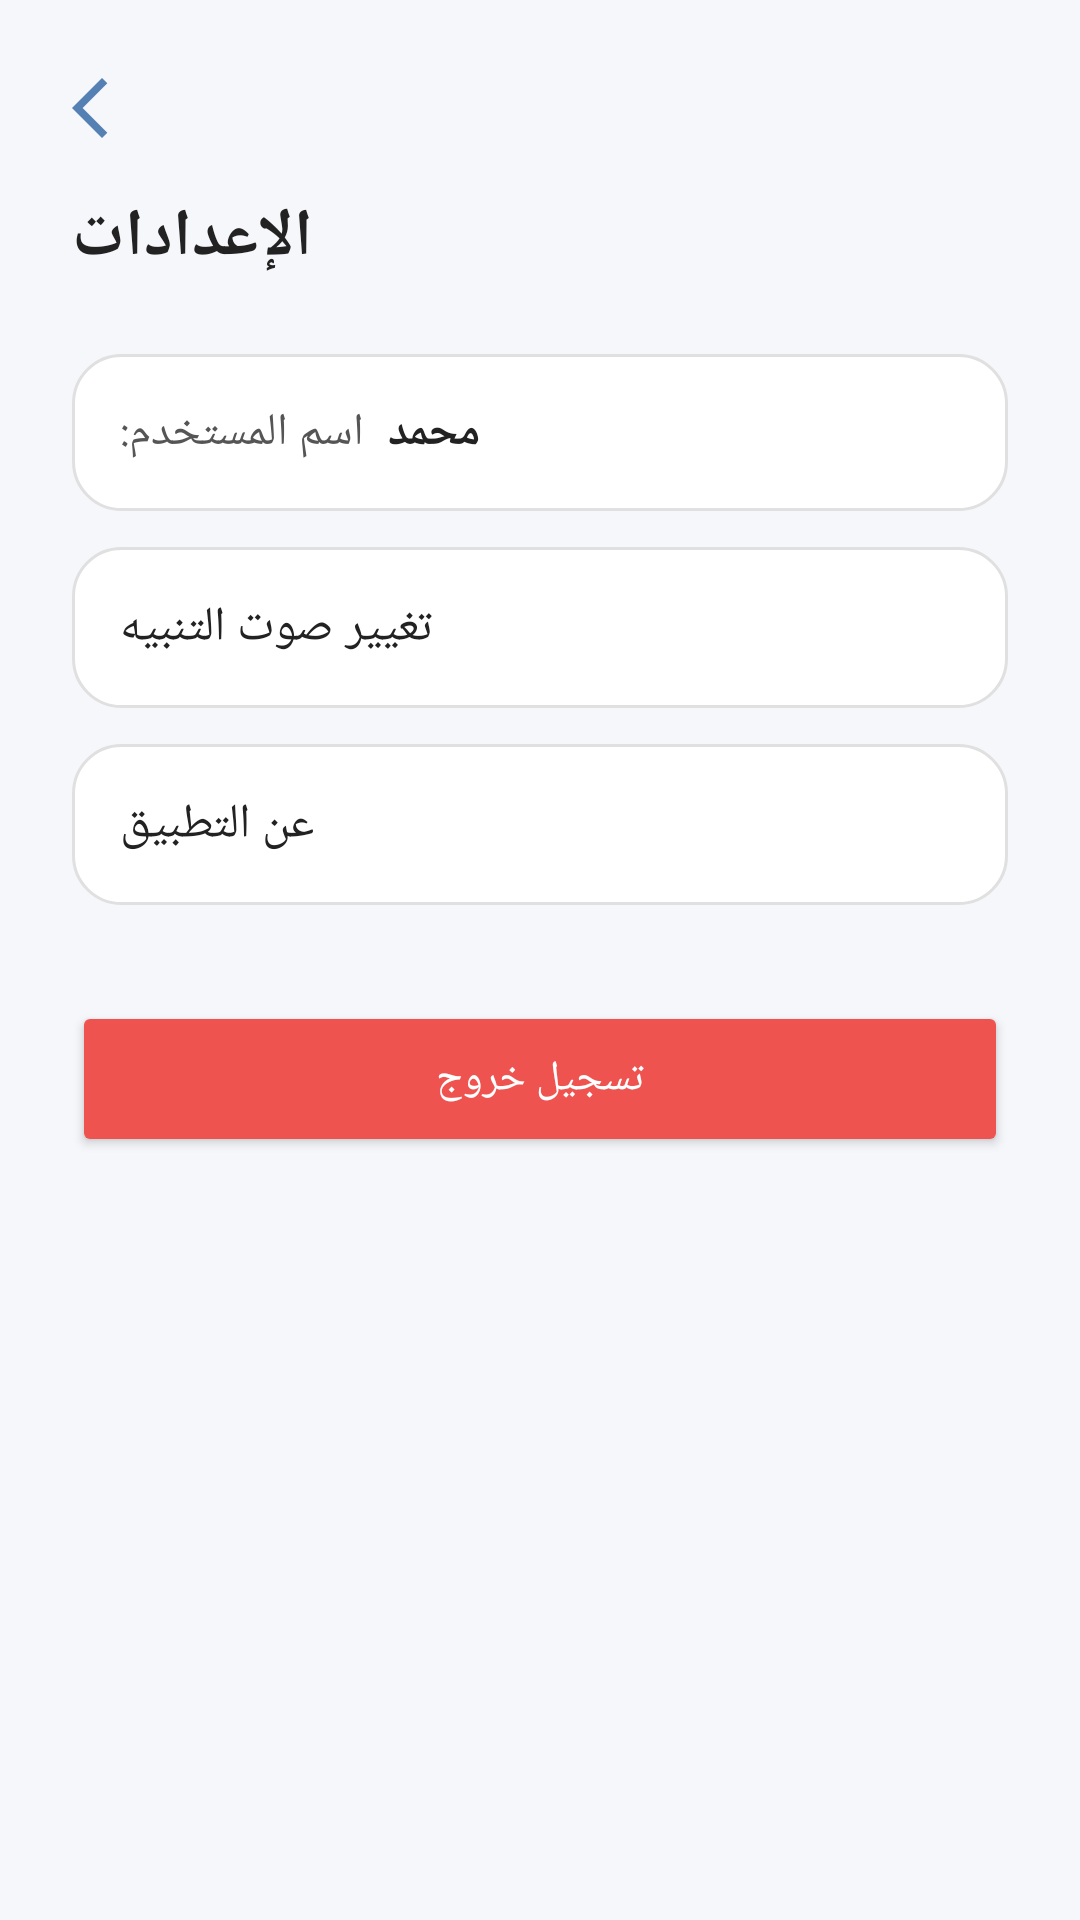

Screen size 1080w x 1920h. Icon name, then its box in pixels as (x1, y1, x2, y2):
رجوع: (72, 78, 107, 138)
